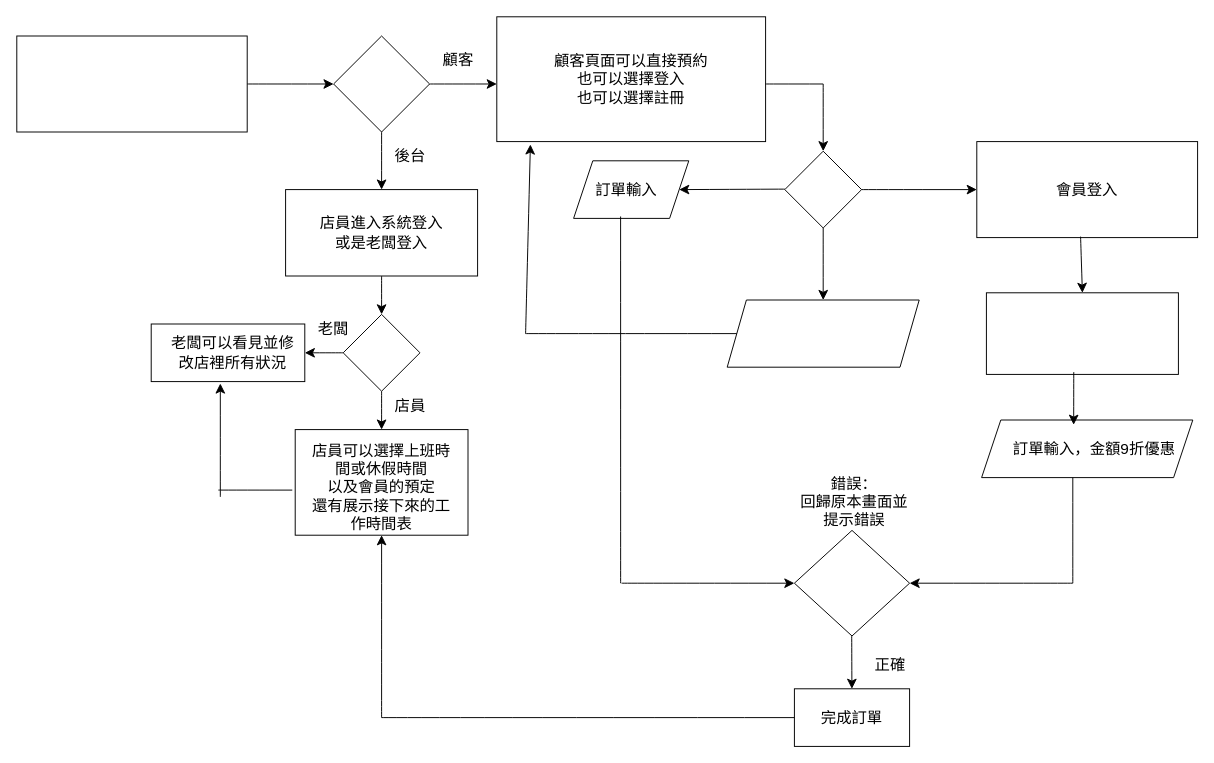
Image size: 1214x763. Some labels were removed from this diagram. Here are the shapes that lost their labels. From the top down, the box of each, then its label:
(16, 35, 247, 132): 先確認是顧客還是店員
(726, 299, 919, 367): 會員註冊
(985, 292, 1178, 374): 登入享受滿額9折優惠
(793, 529, 910, 636): 確認有無錯誤訂單
